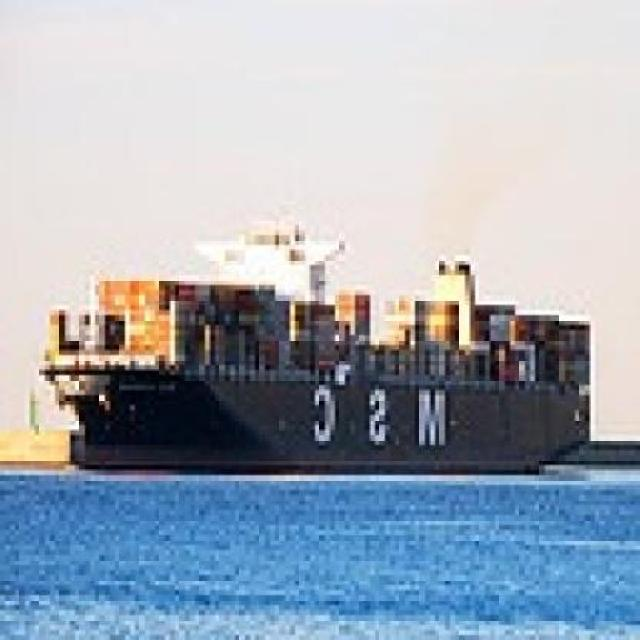Container Ship: (19, 200, 615, 491)
